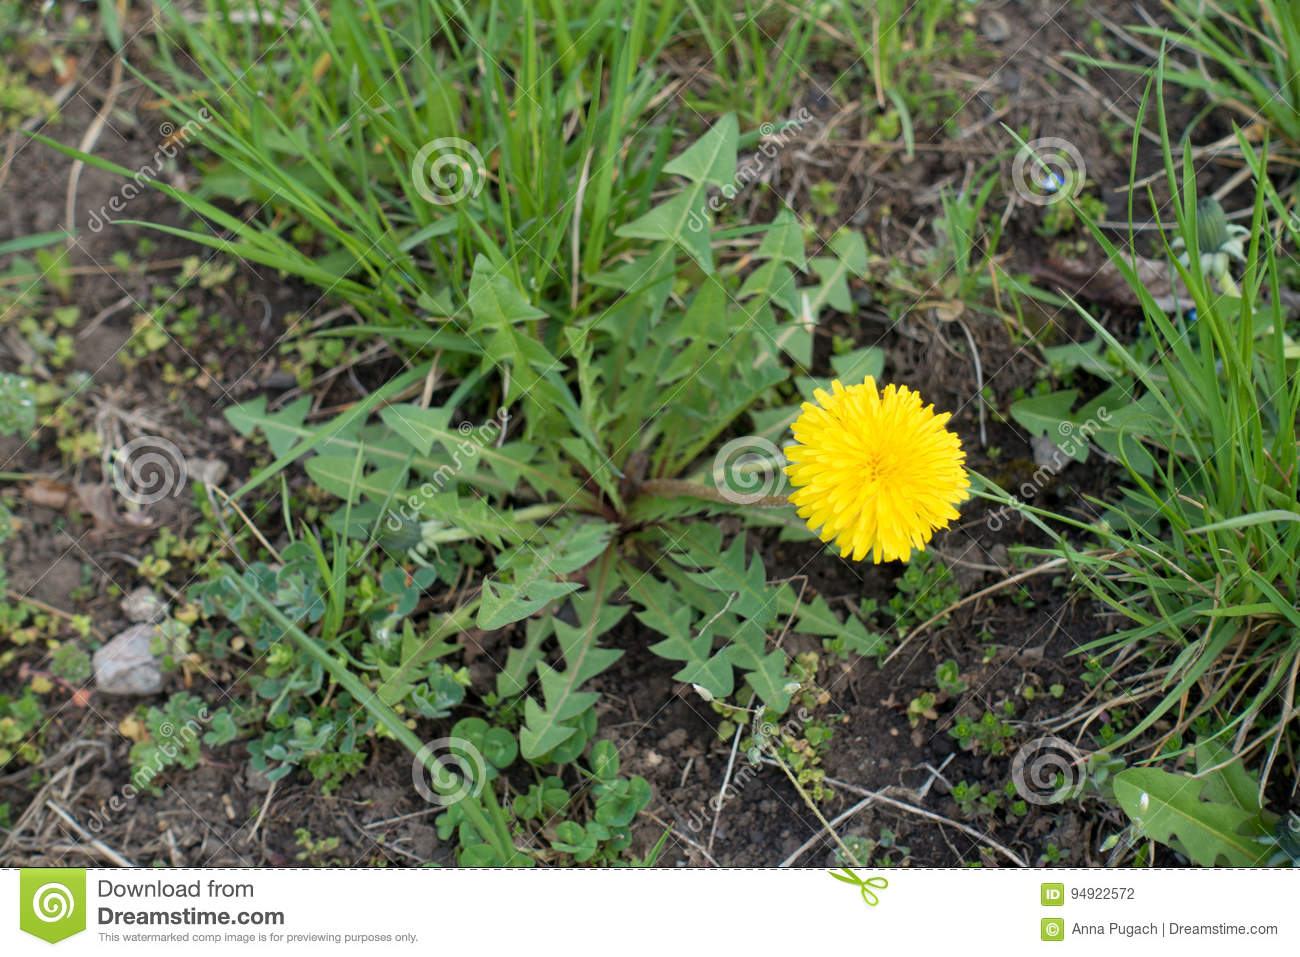dandelion: (788, 386, 978, 567)
